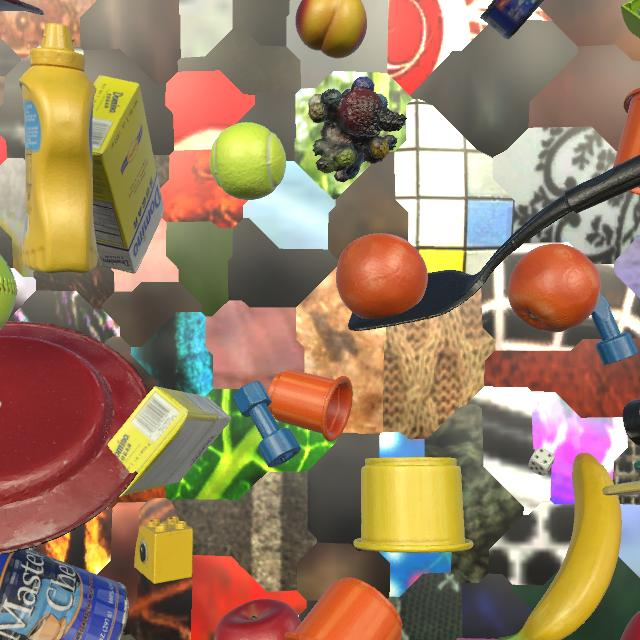ycb_002_master_chef_can: (0, 549, 129, 640)
ycb_004_sugar_box: (92, 75, 164, 274), (108, 386, 231, 497)
ycb_006_mustard_bottle: (19, 23, 97, 274)
ycb_007_tuna_fish_can: (480, 0, 544, 39)
ycb_011_banana: (498, 452, 622, 640)
ycb_013_apple: (214, 599, 301, 640), (620, 611, 640, 640)
ycb_015_peach: (295, 0, 367, 59)
ycb_017_orange: (508, 244, 601, 333), (336, 233, 428, 319)
